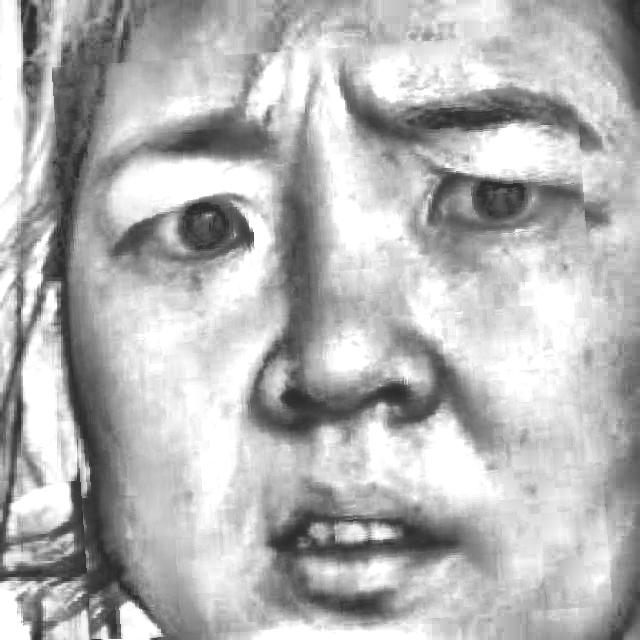angry: (62, 40, 602, 634)
